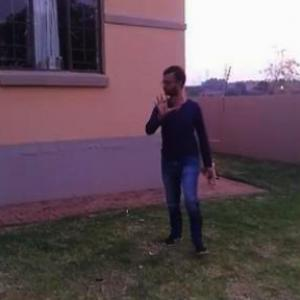follow_hand: (150, 86, 178, 121)
